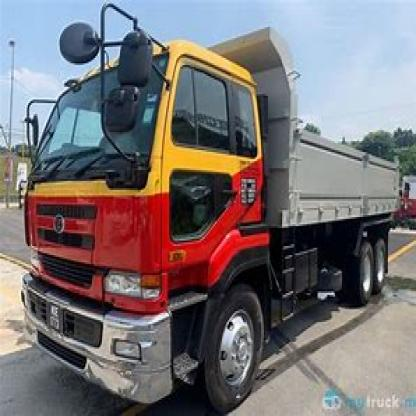dump_truck: (22, 22, 415, 412)
